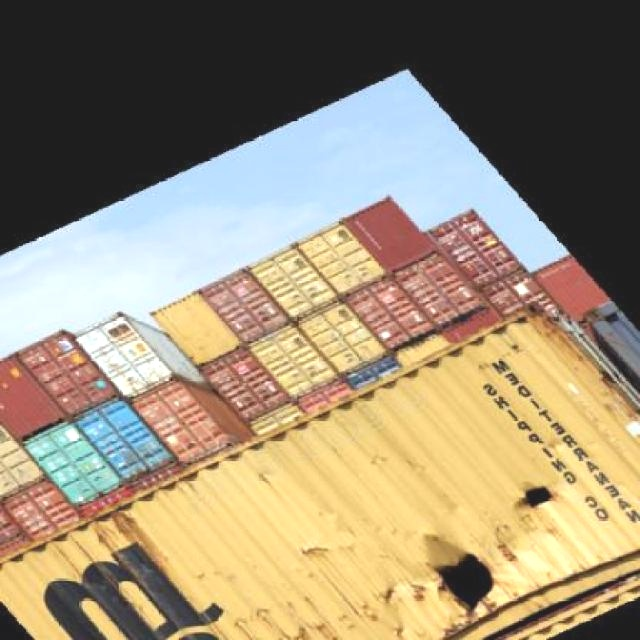Hole: (418, 547, 509, 632), (503, 478, 577, 531)
